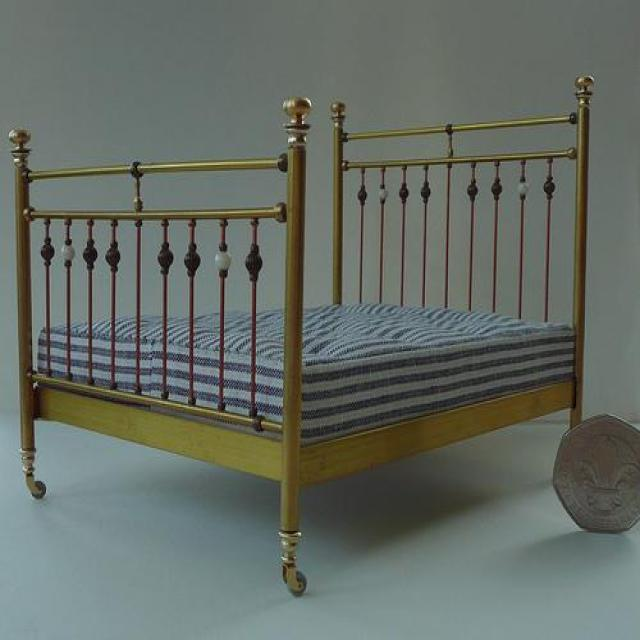bed: (8, 78, 600, 598)
